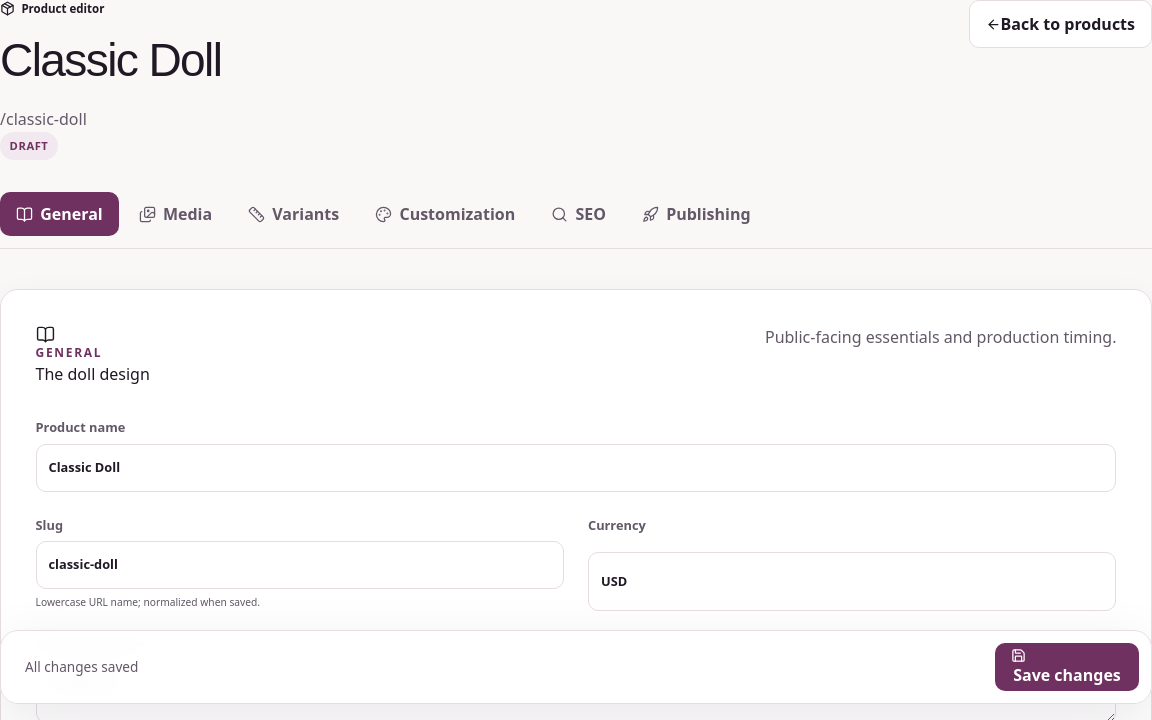
product editor validation › recognizes an existing size label and offers the next common size
The width and height of the screenshot is (1152, 720).
Click the button "Variants" at {"x": 294, "y": 214}, box [232,192,355,236]
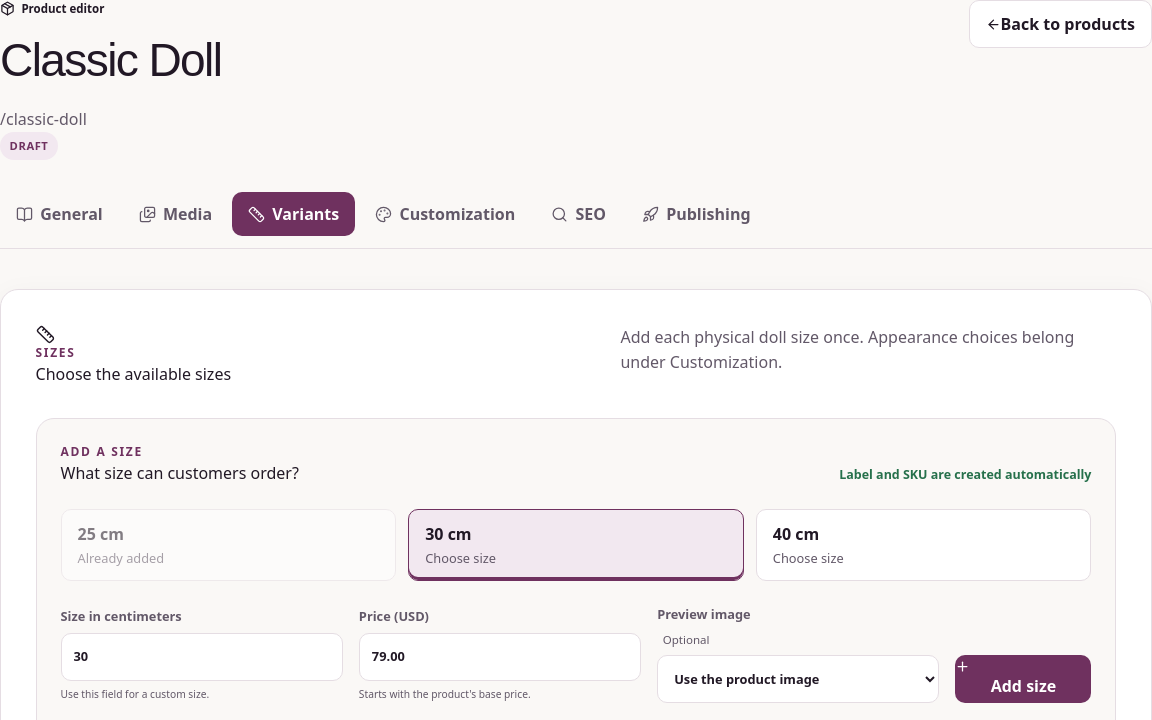
Check: the button "25 cm Already added" is disabled, box [60,509,396,581]
